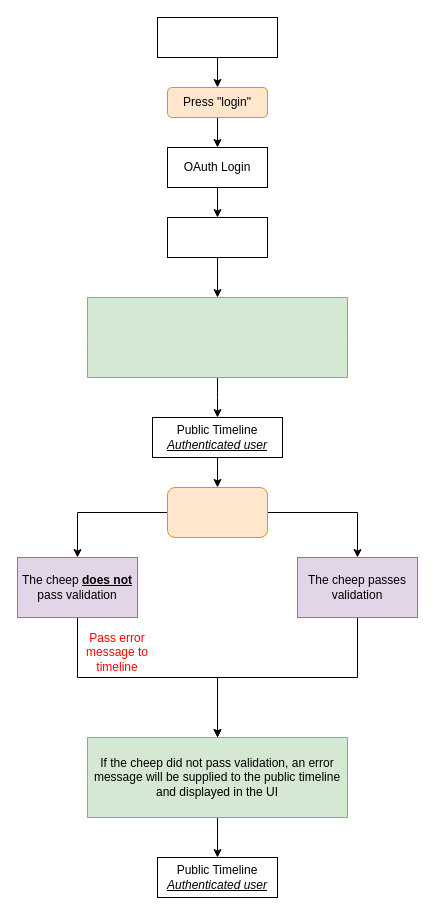
Some shapes in this 435 by 915 pixel diagram are drawn without their labels. Here are the shapes that lost their labels. From the top down, the centre of each, then its label:
point (217, 37): Public Timeline Anonymous user
point (217, 237): Github allow-access page
point (217, 337): The user is now authenticated and can do actions like follow, comment, like
point (217, 512): Write Cheep and press "Publish Cheep"
